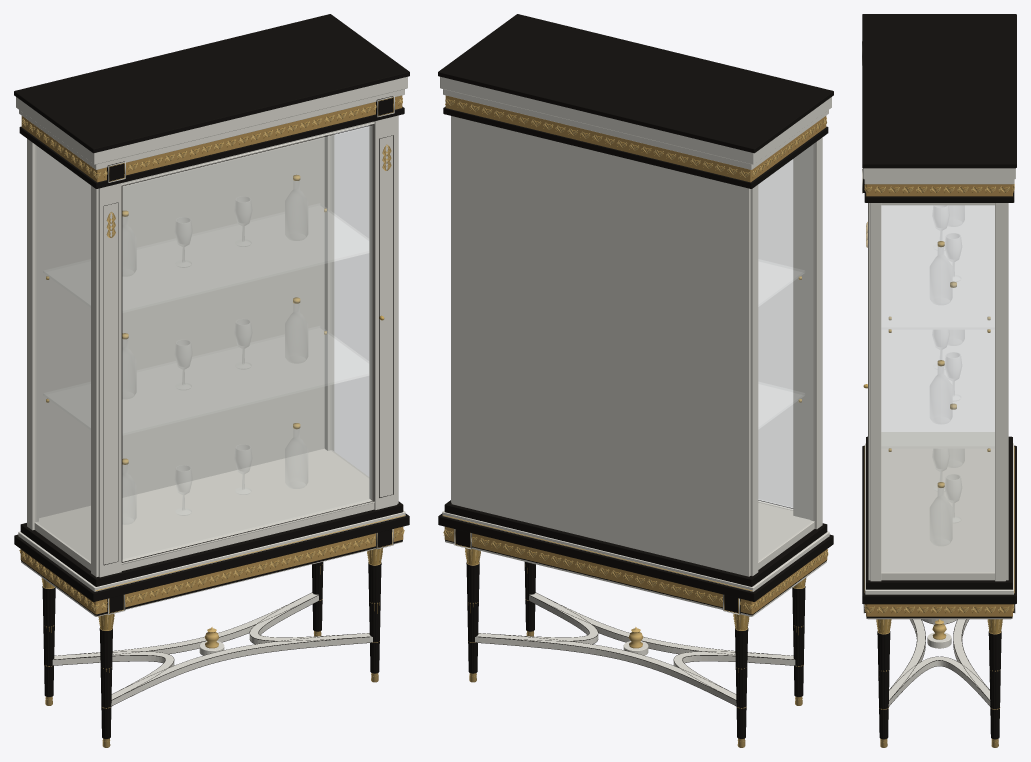
The picture shows the model from 3 angles, left to right: view 1: azimuth 30°, elevation 25°; view 2: azimuth 150°, elevation 25°; view 3: azimuth 270°, elevation 25°; orthographic projection. The views are drawn at different scales.
Visible parts, largest first — view 1: Wellington glazed display cabinet | consoles-19 web batch; view 2: Wellington glazed display cabinet | consoles-19 web batch; view 3: Wellington glazed display cabinet | consoles-19 web batch.
Boxes of the visible parts, x1,y1,x2,y2 form: Wellington glazed display cabinet | consoles-19 web batch: [14, 14, 409, 747]; Wellington glazed display cabinet | consoles-19 web batch: [438, 14, 833, 747]; Wellington glazed display cabinet | consoles-19 web batch: [862, 14, 1016, 747].
Size of the model in its own units: 1.15 by 2.12 by 0.5003.
